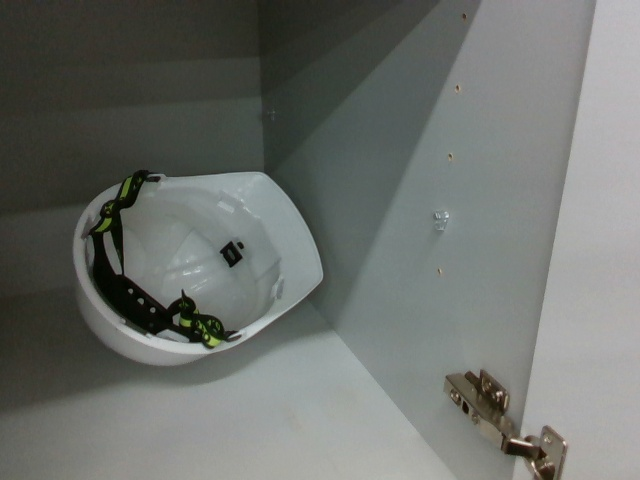helmet: (69, 162, 334, 374)
